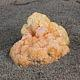Sulphur-yellow tinder fungus: (9, 12, 68, 65)
